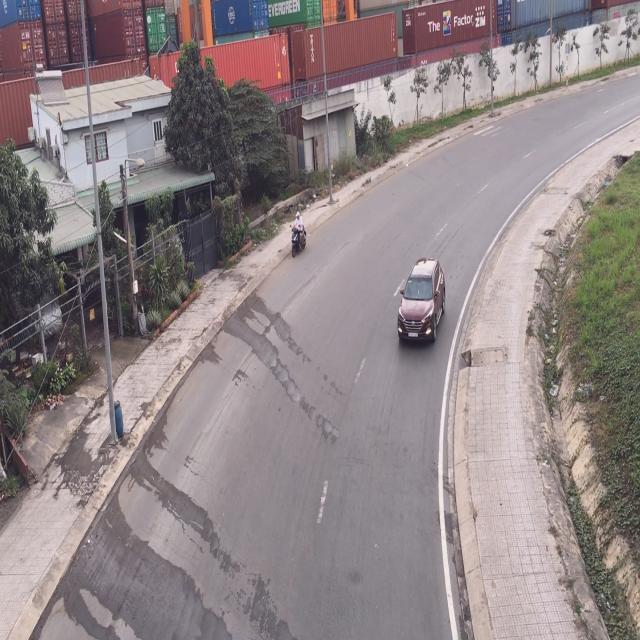car: (398, 262, 448, 349)
motorbike: (288, 213, 308, 261)
